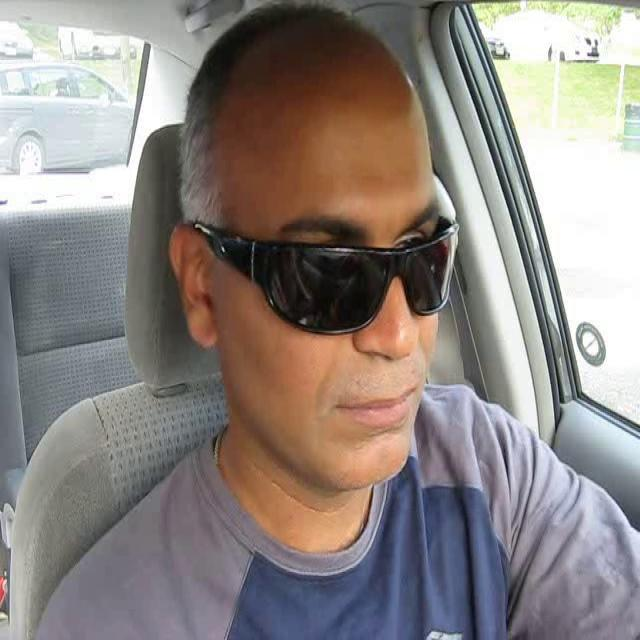close: (326, 383, 420, 430)
